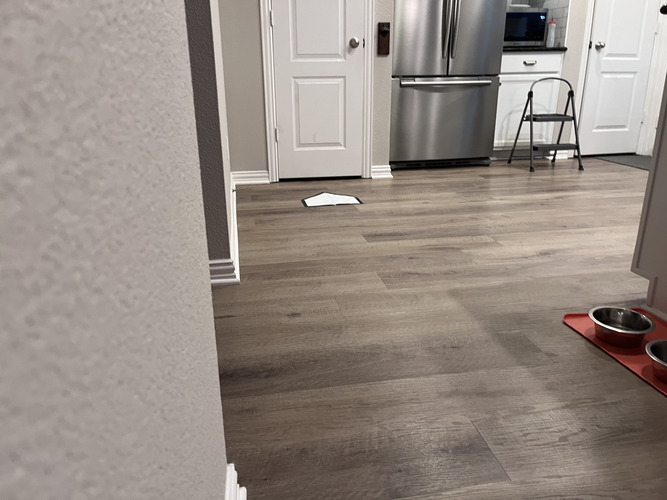homeplate: (301, 192, 363, 208)
